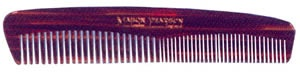grozi_17: (3, 6, 294, 63)
